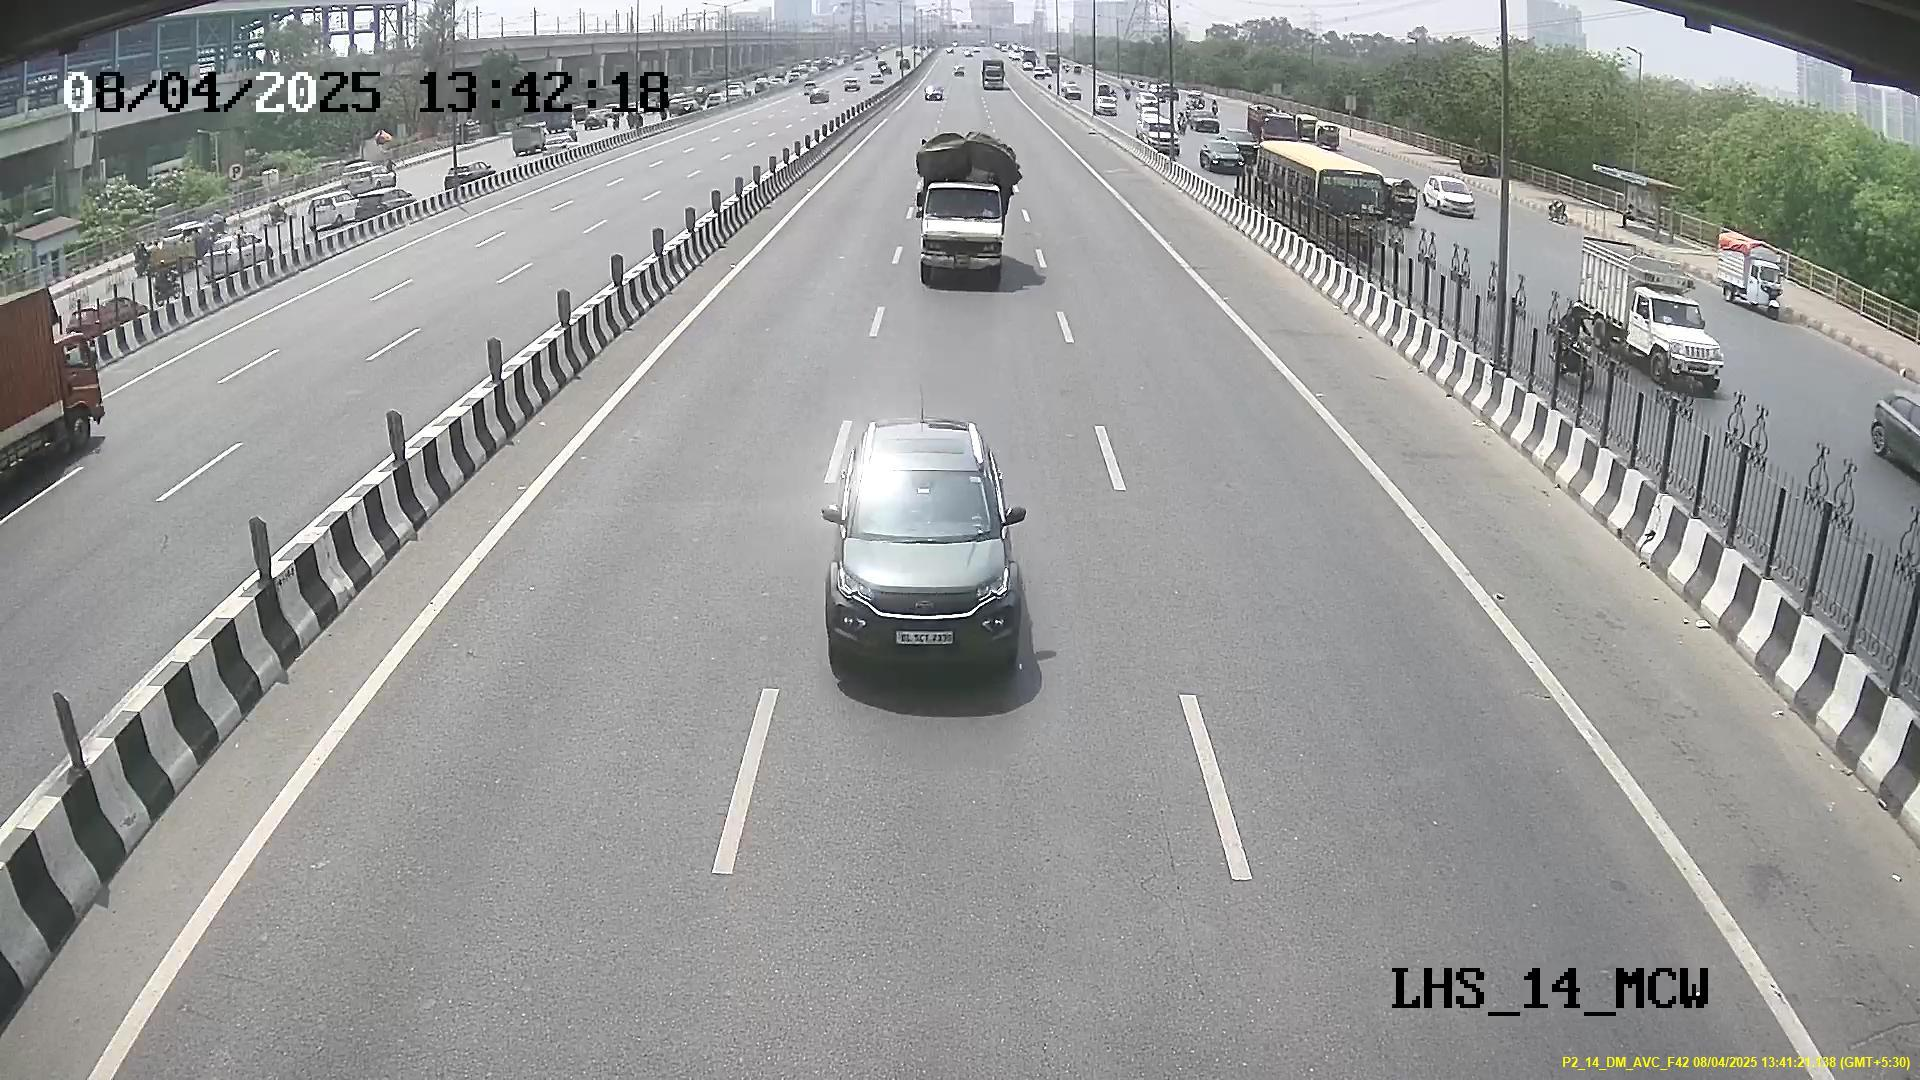car: (824, 442, 1023, 680)
lcv: (913, 178, 1010, 282)
